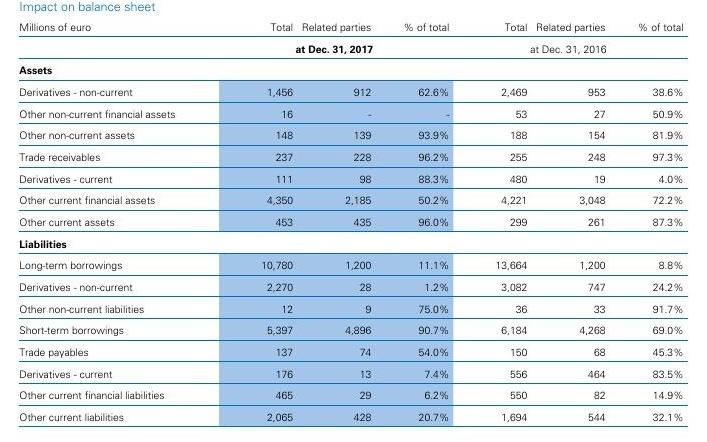table: (0, 0, 707, 442)
